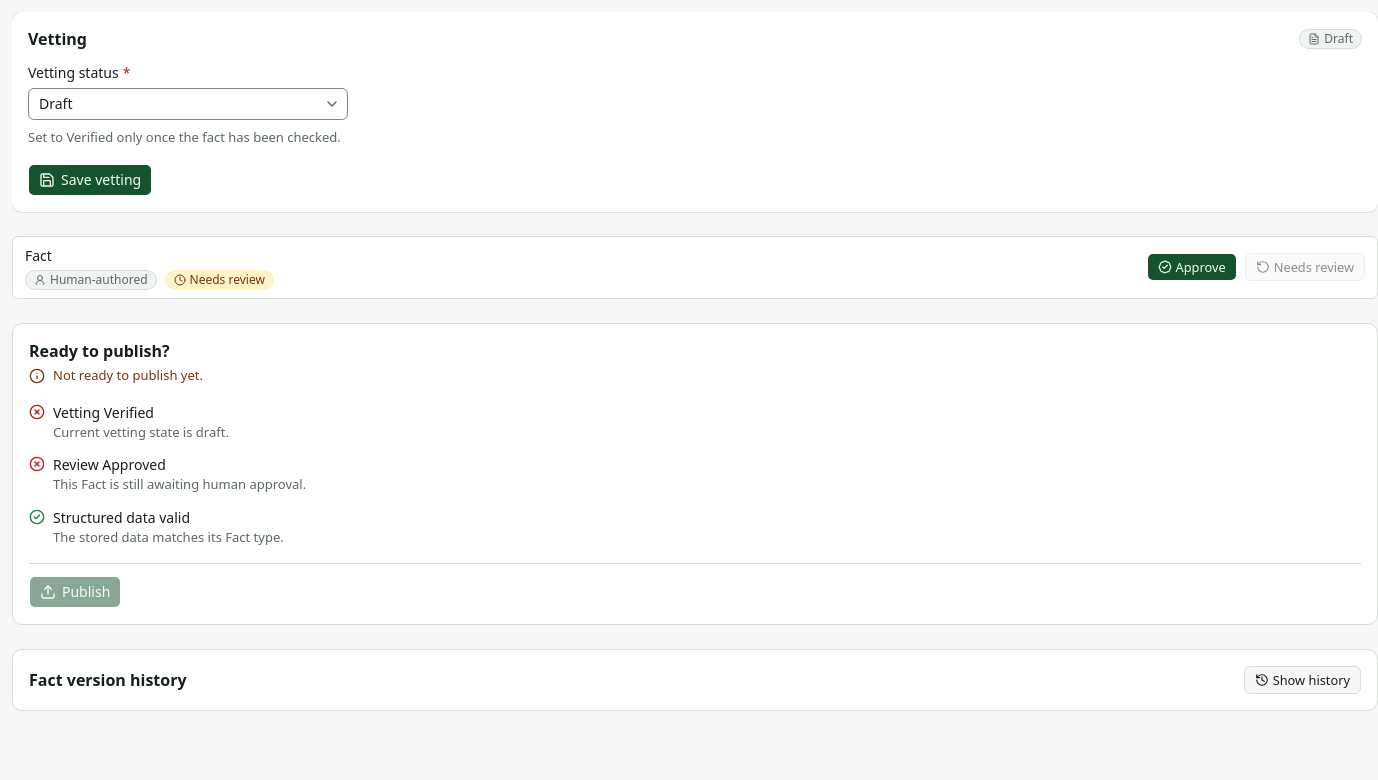
Scenario: FactTrustPanel › saves Fact vetting through fact.vetting.write and re-reads the entity
This screenshot has width=1378, height=780.
Select "Verified" in the dropdown labelled "Vetting status" at (188, 104), box [28, 88, 348, 120]
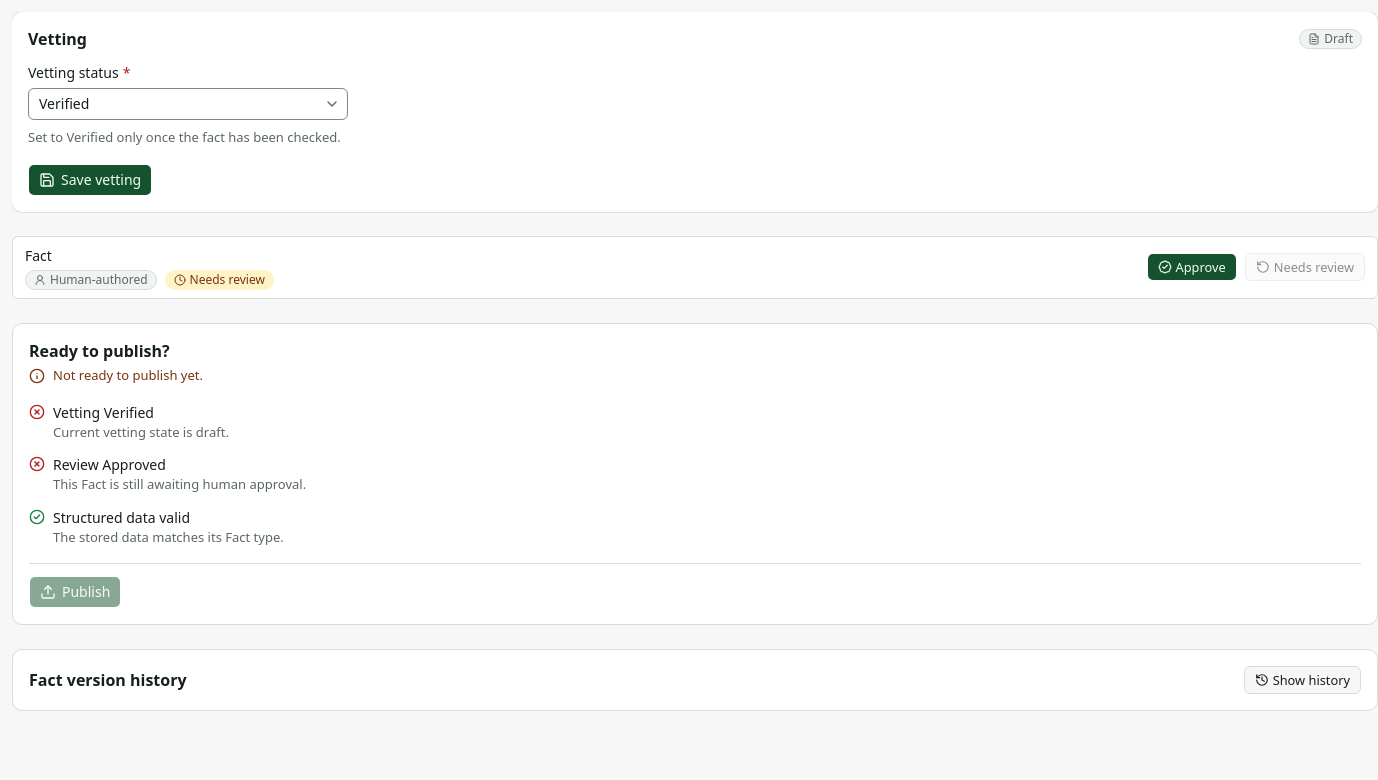
Click the button "Save vetting" at (90, 180), box [28, 164, 152, 196]
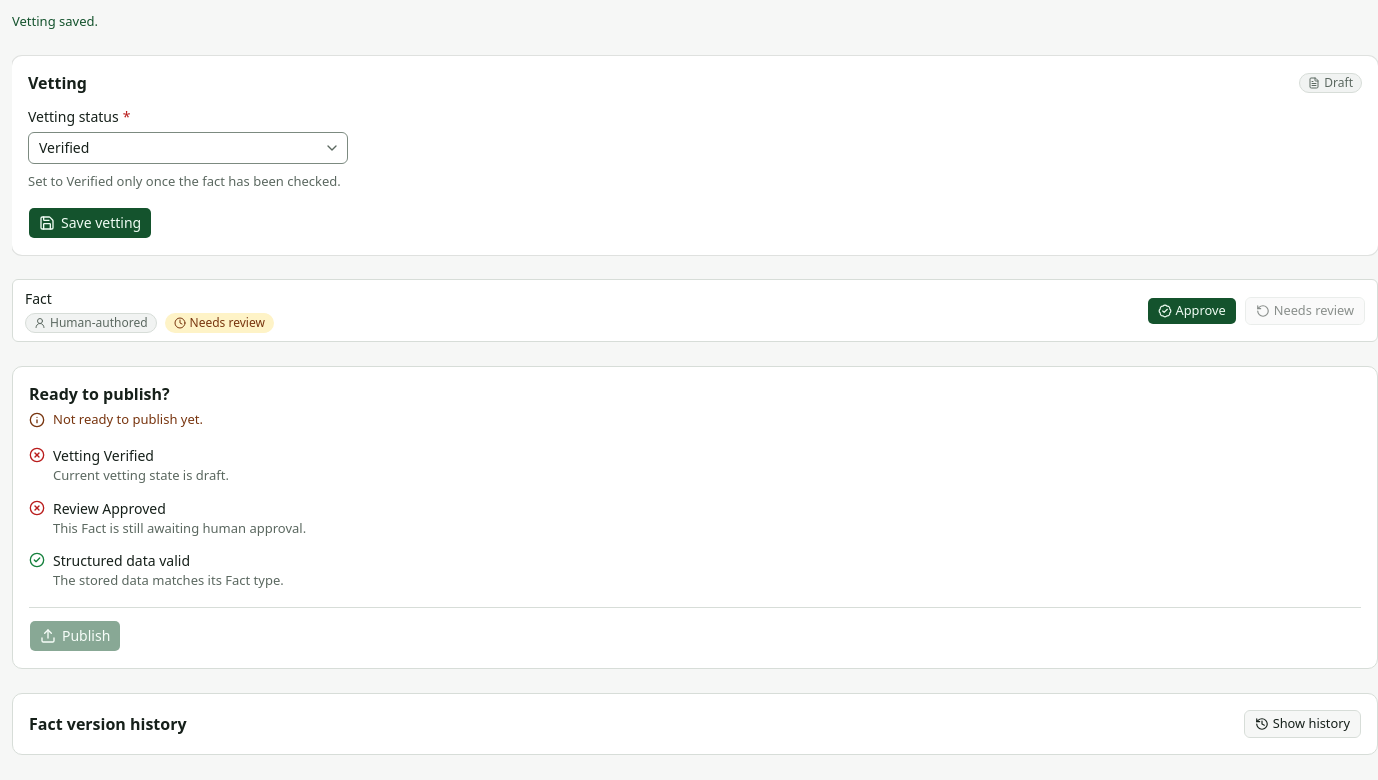
Check: the text "Vetting saved." is shown, box [12, 12, 98, 30]
